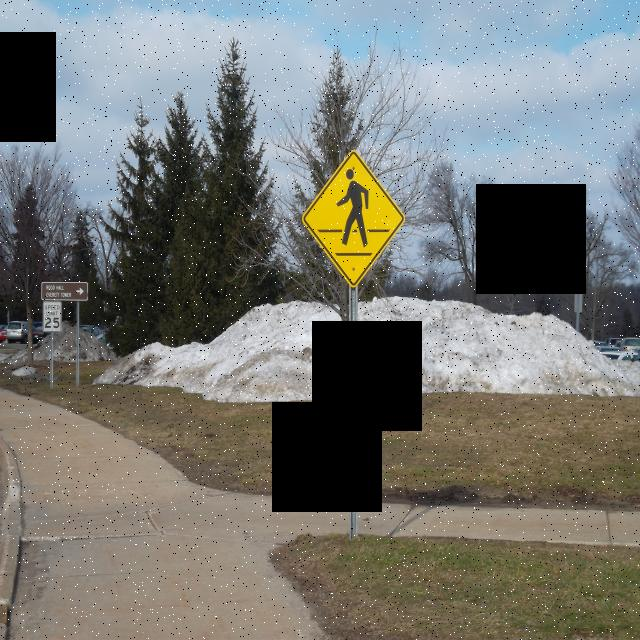regulatory: (42, 300, 62, 335)
warning: (297, 139, 406, 300)
